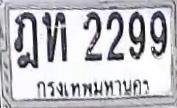2: (82, 11, 102, 61), (106, 11, 124, 61)
9: (149, 10, 167, 58), (128, 11, 145, 59)
A14: (13, 10, 38, 68)
A23: (42, 11, 67, 62)
BKK: (30, 75, 153, 99)
